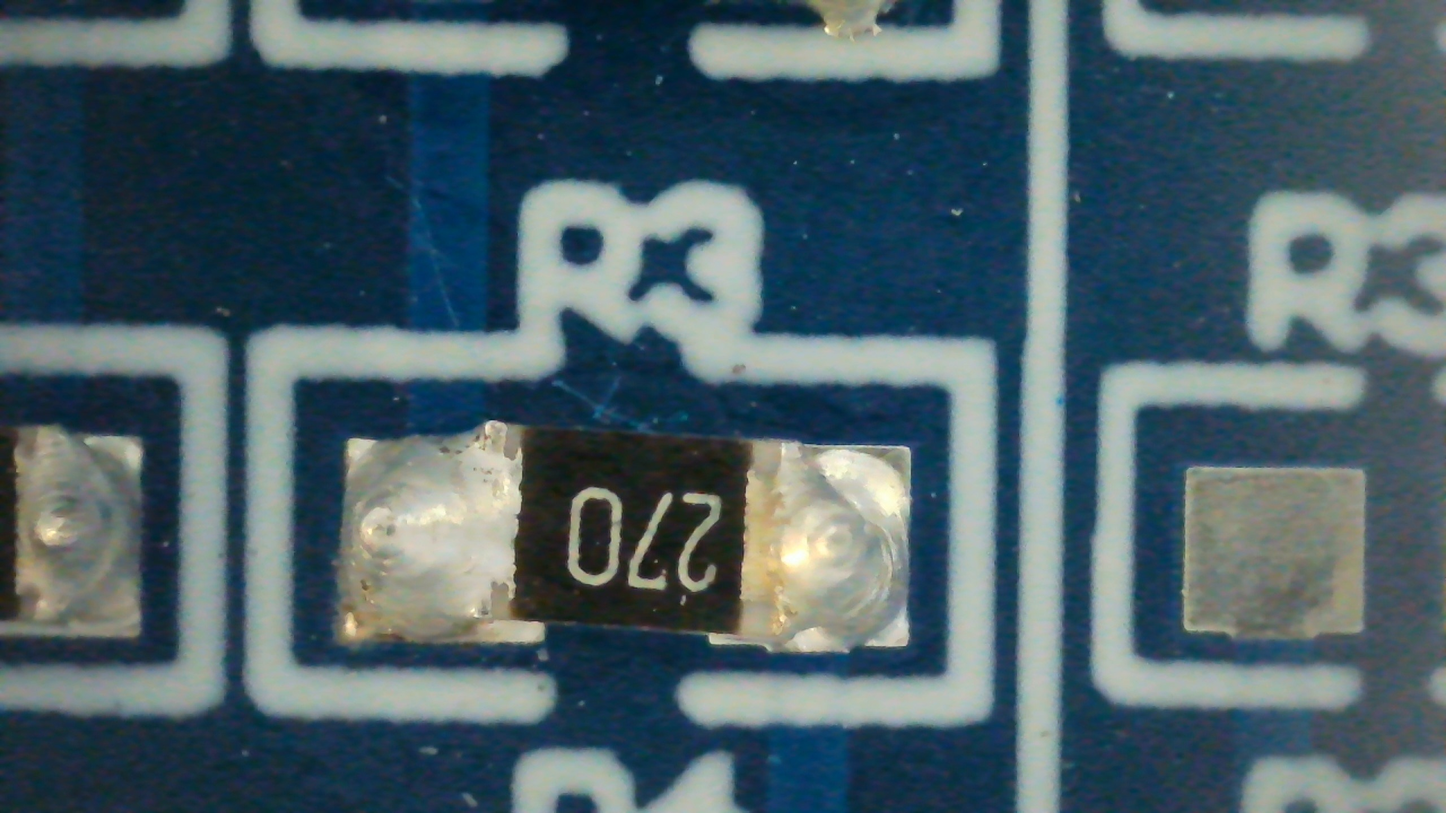NG: (343, 424, 911, 652)
